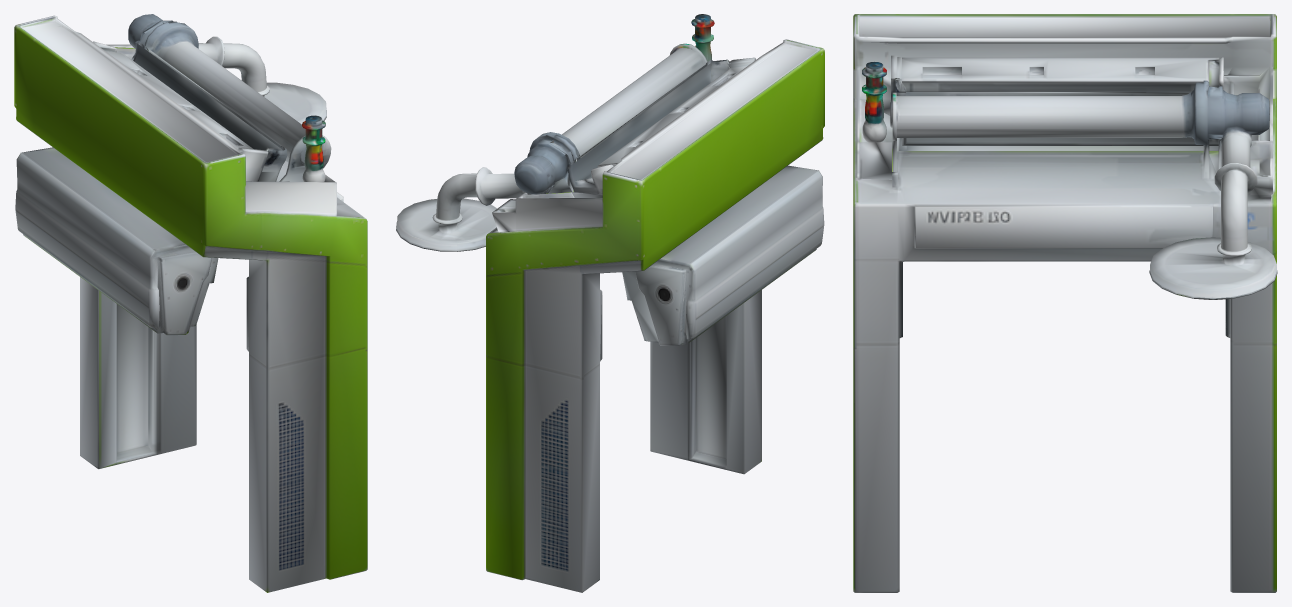
Rendered from JWF0019A-新主体对齐-720贴图-2026-07-23.glb.
3 views of the same model, side by side, from view 1: azimuth 30°, elevation 25°; view 2: azimuth 150°, elevation 25°; view 3: azimuth 270°, elevation 25° (orthographic). The views are drawn at different scales.
Visible parts, largest first — view 1: G2WSMYxhXro_wle7SCTU2.001; view 2: G2WSMYxhXro_wle7SCTU2.001; view 3: G2WSMYxhXro_wle7SCTU2.001.
Part boxes in pixels (box(x1,y1,x2,y2)): G2WSMYxhXro_wle7SCTU2.001: box(14, 14, 367, 592); G2WSMYxhXro_wle7SCTU2.001: box(396, 14, 824, 592); G2WSMYxhXro_wle7SCTU2.001: box(853, 14, 1277, 592).
Bounding box in the file's own units: 0.6252 × 0.8935 × 0.6821.
1 material, 1 textured.
